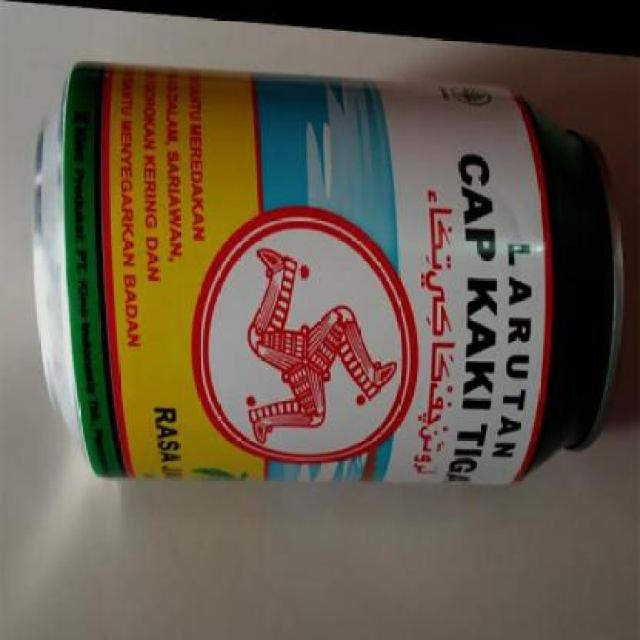Metal: (23, 44, 627, 501)
